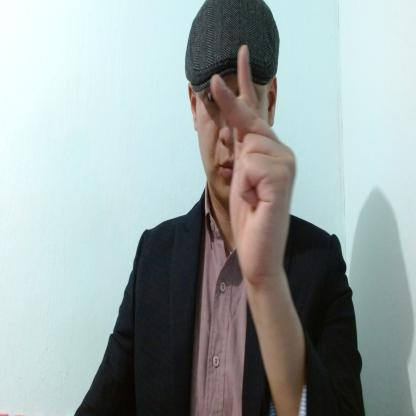P: (210, 41, 298, 284)
